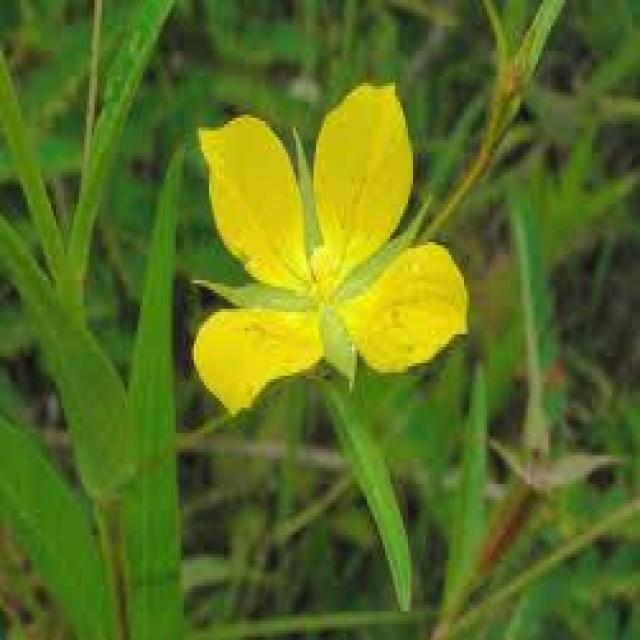organic waste: (188, 78, 500, 409)
